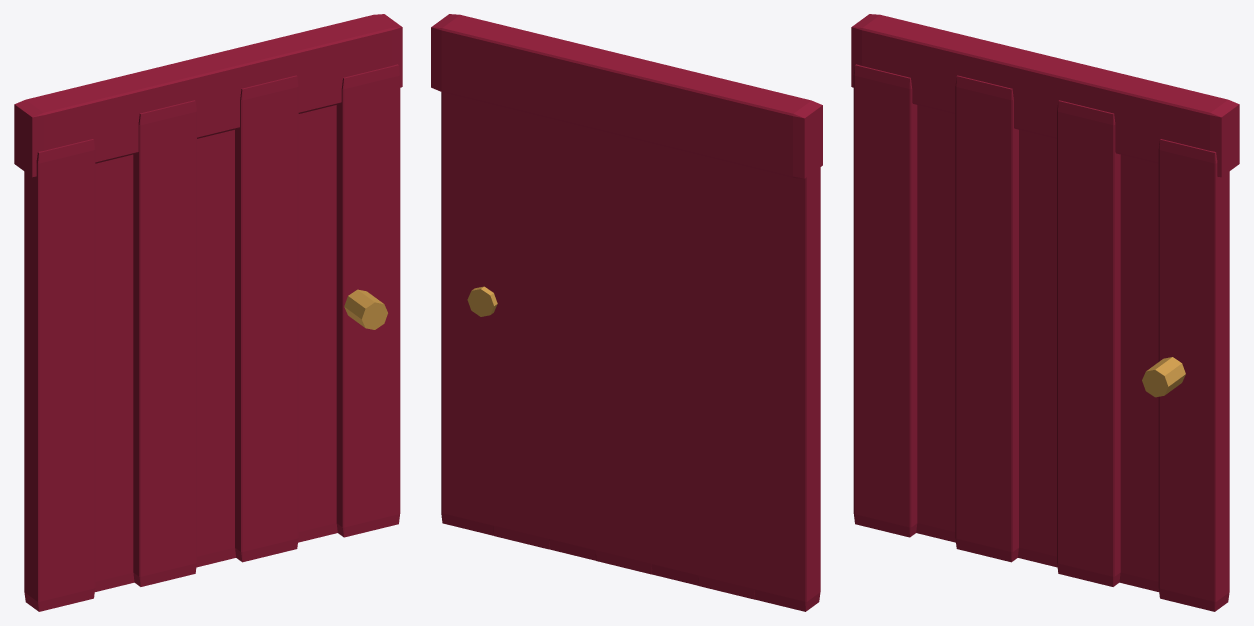
File: curtain_left.glb
3 renders of one model, left to right at view 1: azimuth 30°, elevation 25°; view 2: azimuth 150°, elevation 25°; view 3: azimuth 330°, elevation 25°, orthographic.
Visible parts, largest first — view 1: left_fold_0, left_fold_4, left_fold_2, left_fold_6, left_valance, left_fold_5, left_fold_1, left_fold_3, left_tie; view 2: left_valance, left_fold_0, left_fold_5, left_fold_3, left_fold_1, left_fold_6, left_fold_2, left_fold_4, left_tie; view 3: left_fold_6, left_fold_2, left_fold_4, left_fold_0, left_valance, left_fold_1, left_fold_5, left_fold_3, left_tie.
Boxes of the visible parts, bbox=[...] form: left_fold_0: bbox=[24, 139, 95, 611]; left_fold_4: bbox=[235, 75, 298, 562]; left_fold_2: bbox=[133, 100, 196, 586]; left_fold_6: bbox=[336, 64, 400, 537]; left_valance: bbox=[14, 14, 402, 177]; left_fold_5: bbox=[298, 105, 337, 542]; left_fold_1: bbox=[95, 154, 134, 591]; left_fold_3: bbox=[196, 130, 235, 567]; left_tie: bbox=[344, 289, 387, 329]; left_valance: bbox=[431, 14, 822, 178]; left_fold_0: bbox=[750, 167, 820, 611]; left_fold_5: bbox=[493, 105, 549, 549]; left_fold_3: bbox=[595, 130, 652, 574]; left_fold_1: bbox=[698, 155, 754, 599]; left_fold_6: bbox=[441, 92, 497, 535]; left_fold_2: bbox=[647, 142, 702, 585]; left_fold_4: bbox=[544, 118, 600, 560]; left_tie: bbox=[467, 286, 497, 316]; left_fold_6: bbox=[1158, 139, 1229, 611]; left_fold_2: bbox=[955, 75, 1018, 562]; left_fold_4: bbox=[1057, 100, 1120, 586]; left_fold_0: bbox=[853, 64, 917, 537]; left_valance: bbox=[851, 14, 1239, 177]; left_fold_1: bbox=[916, 105, 955, 542]; left_fold_5: bbox=[1119, 154, 1158, 591]; left_fold_3: bbox=[1018, 130, 1057, 567]; left_tie: bbox=[1142, 357, 1185, 397].
Bounding box in the file's own units: 3.35 × 4.29 × 0.595.
